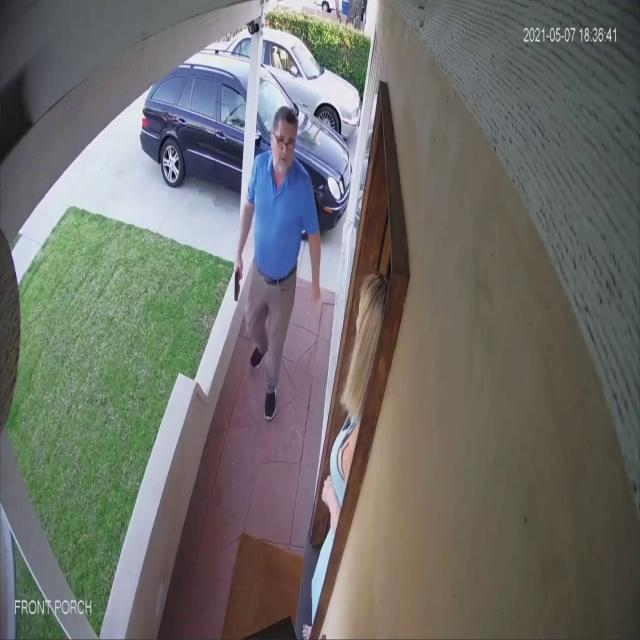gun: (232, 264, 242, 304)
